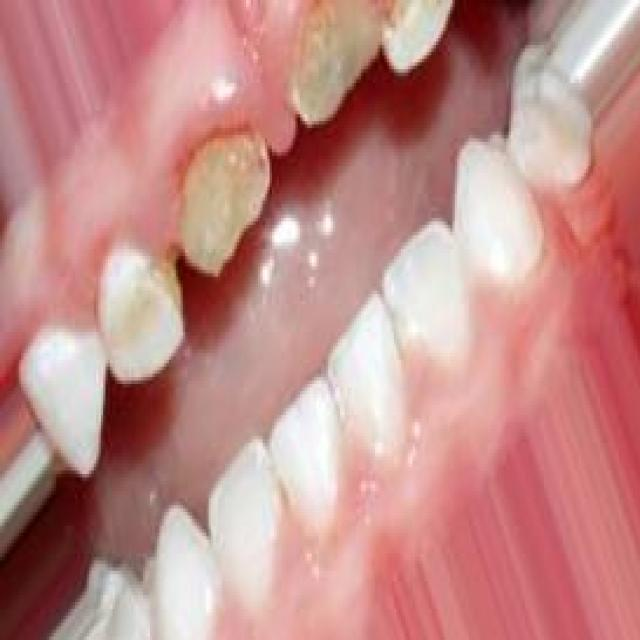caries: (176, 132, 275, 286), (287, 0, 390, 146), (106, 248, 184, 356)
